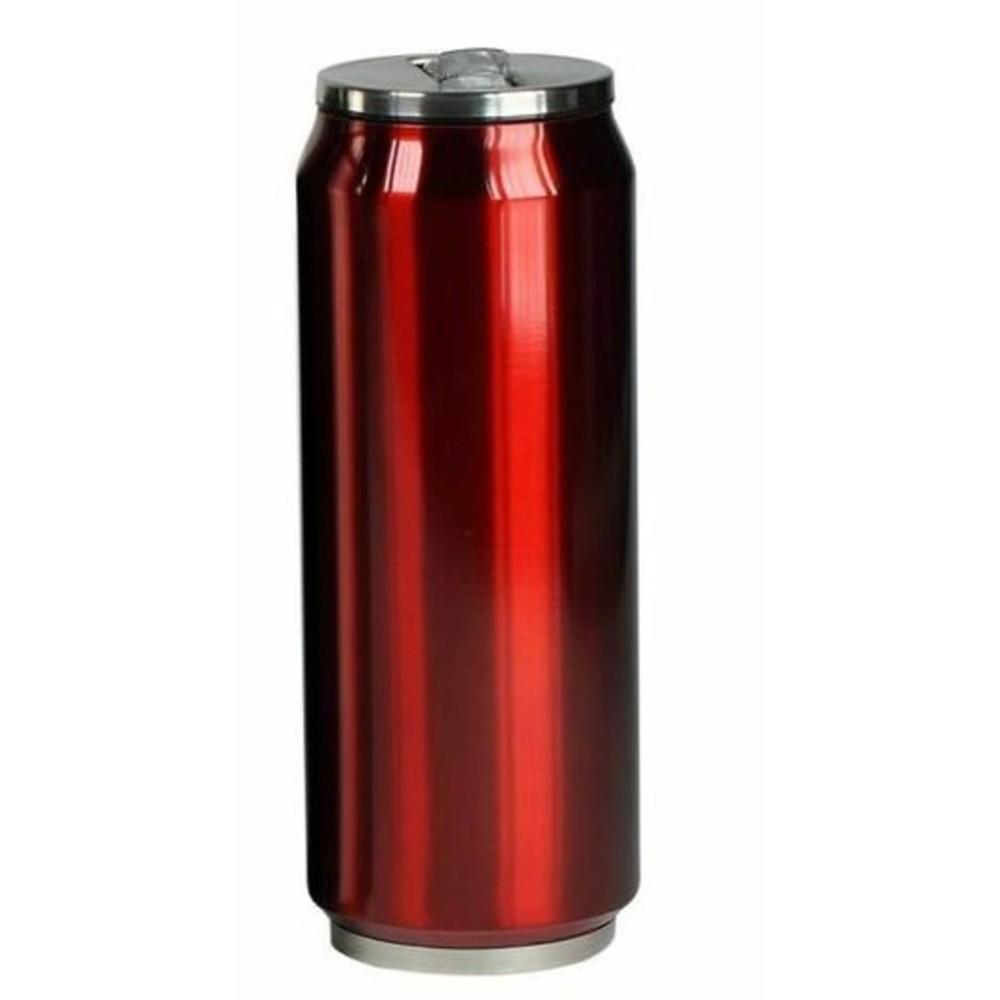metal: (297, 47, 639, 974)
